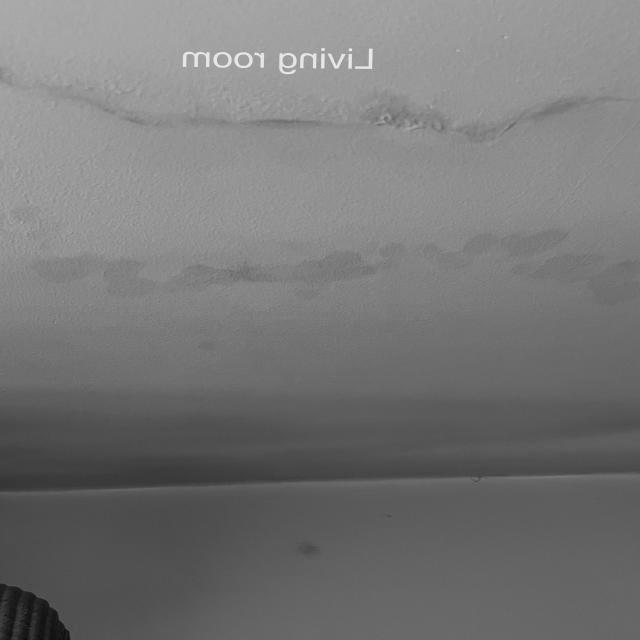stain marks: (0, 202, 640, 312), (1, 66, 633, 152), (283, 536, 341, 572), (192, 334, 230, 360)
